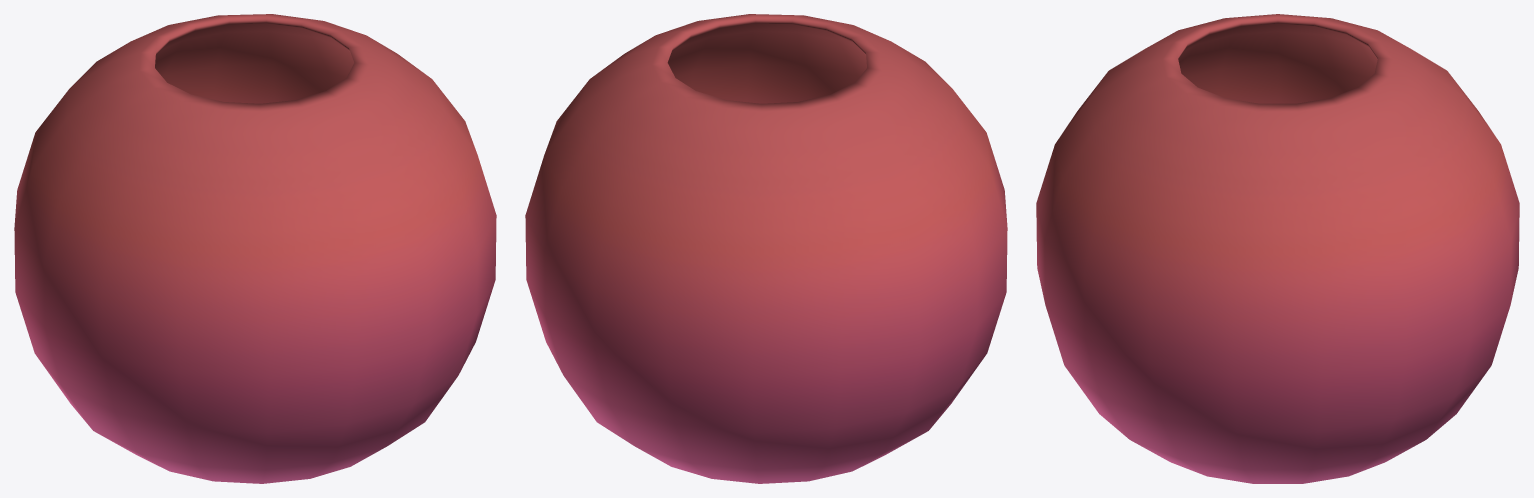
File: Vase_Round_Red.fbx
3 views of the same model, side by side, from view 1: azimuth 30°, elevation 25°; view 2: azimuth 150°, elevation 25°; view 3: azimuth 270°, elevation 25° (orthographic).
Parts seen in each view (by area): view 1: Vase_Round_Red; view 2: Vase_Round_Red; view 3: Vase_Round_Red.
Boxes of the visible parts, <box> form: Vase_Round_Red: <box>14,14,496,483</box>; Vase_Round_Red: <box>525,14,1007,483</box>; Vase_Round_Red: <box>1036,14,1519,483</box>.
Bounding box in the file's own units: 104 × 92.09 × 105.
